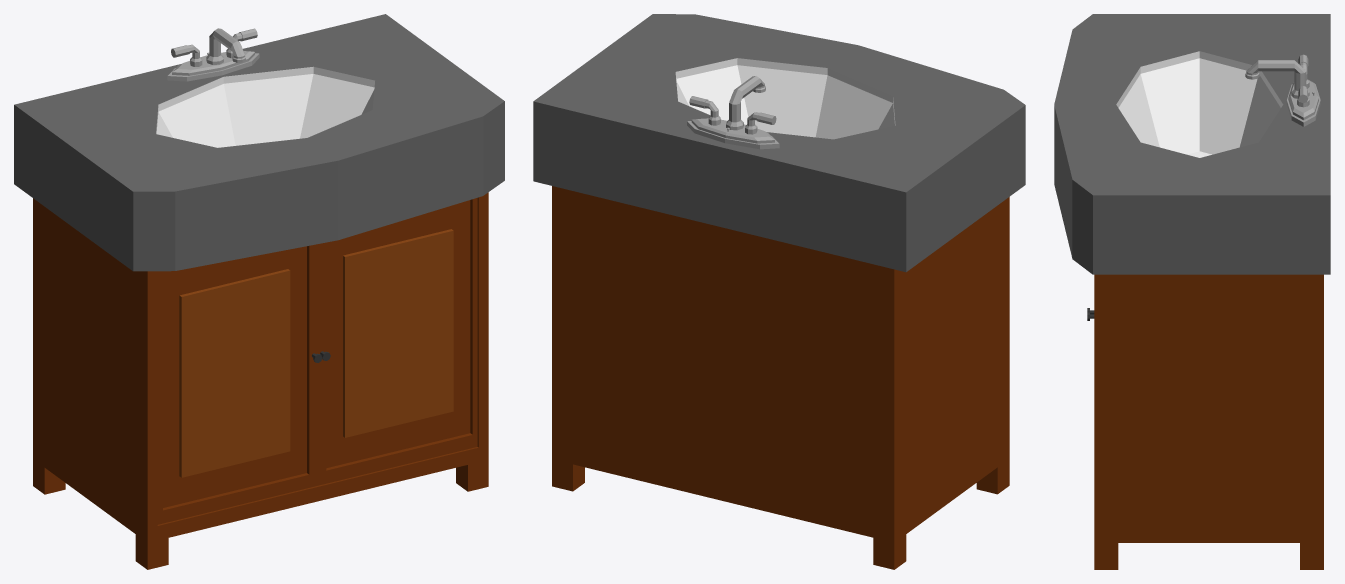
Rendered from Vanity.fbx.
3 renders of one model, left to right at view 1: azimuth 30°, elevation 25°; view 2: azimuth 150°, elevation 25°; view 3: azimuth 270°, elevation 25°, orthographic.
Visible parts, largest first — view 1: Vanity, Vanity.001, Vanity.002; view 2: Vanity; view 3: Vanity.
Boxes of the visible parts, x1,y1,x2,y2 form: Vanity: (14, 14, 504, 569); Vanity.001: (157, 244, 322, 524); Vanity.002: (318, 198, 477, 485); Vanity: (533, 14, 1025, 569); Vanity: (1054, 14, 1330, 569).
Bounding box in the file's own units: 549 × 603 × 354.
